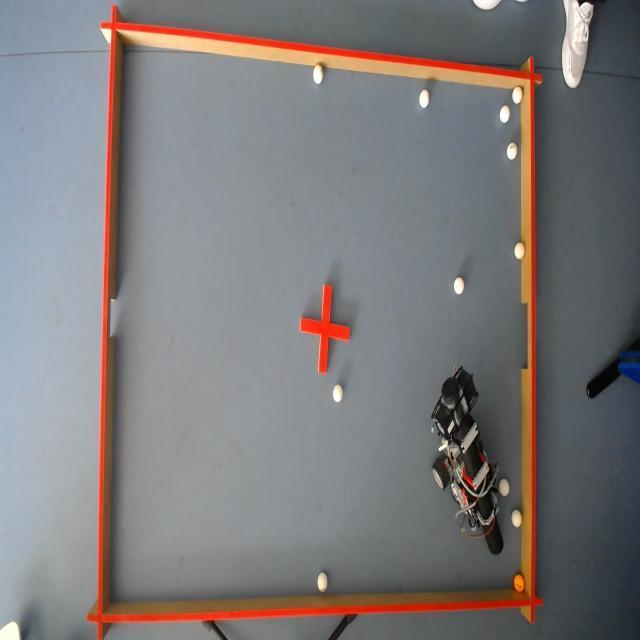orange: (514, 572, 524, 594)
robot: (427, 360, 501, 546)
white: (498, 104, 512, 124), (416, 88, 429, 109), (314, 572, 326, 594), (498, 476, 511, 496), (512, 238, 524, 259), (512, 85, 523, 106), (451, 276, 463, 294), (512, 507, 522, 527), (312, 63, 322, 83), (506, 140, 517, 157), (332, 386, 342, 403)
